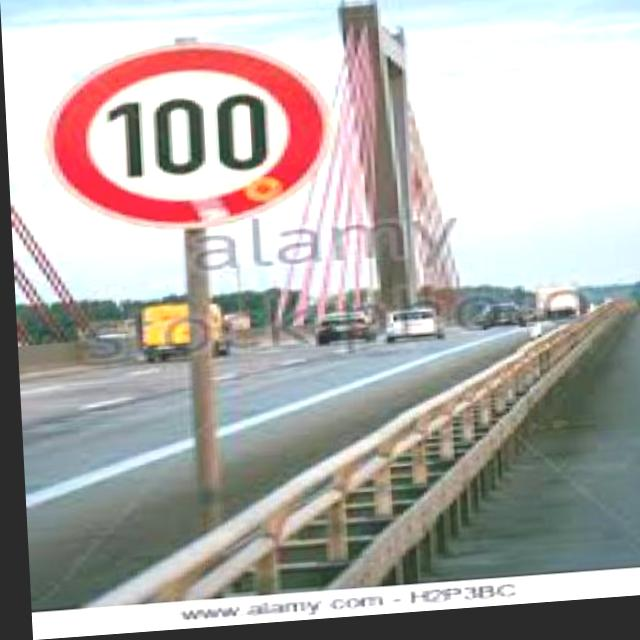limit100: (31, 32, 339, 243)
